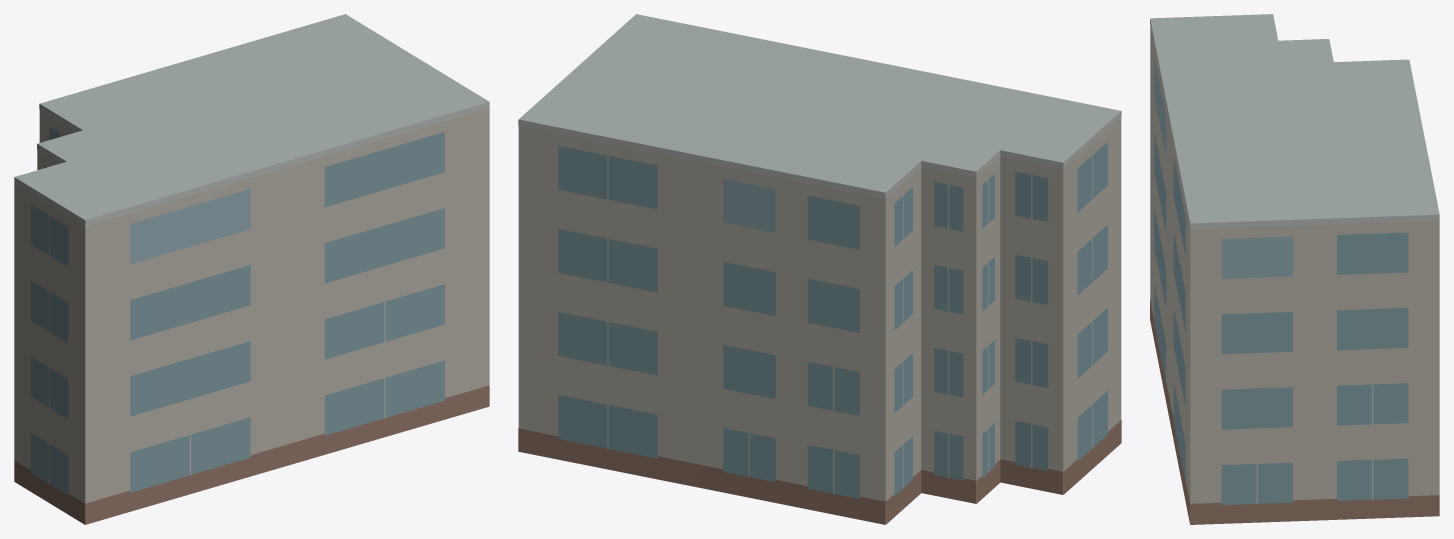
File: residential-04296aac-259d-42f3-9347-5ee1a551d3b7.glb
3 views of the same model, side by side, from view 1: azimuth 30°, elevation 25°; view 2: azimuth 150°, elevation 25°; view 3: azimuth 270°, elevation 25° (orthographic). The views are drawn at different scales.
Parts seen in each view (by area): view 1: residential-04296aac-259d-42f3-9347-5ee1a551d3b7.tmp; view 2: residential-04296aac-259d-42f3-9347-5ee1a551d3b7.tmp; view 3: residential-04296aac-259d-42f3-9347-5ee1a551d3b7.tmp.
Boxes of the visible parts, left/top/right/bottom form: residential-04296aac-259d-42f3-9347-5ee1a551d3b7.tmp: left=14, top=14, right=489, bottom=524; residential-04296aac-259d-42f3-9347-5ee1a551d3b7.tmp: left=518, top=14, right=1121, bottom=524; residential-04296aac-259d-42f3-9347-5ee1a551d3b7.tmp: left=1150, top=14, right=1439, bottom=524.
Bounding box in the file's own units: 18.18 × 12.2 × 10.63.
